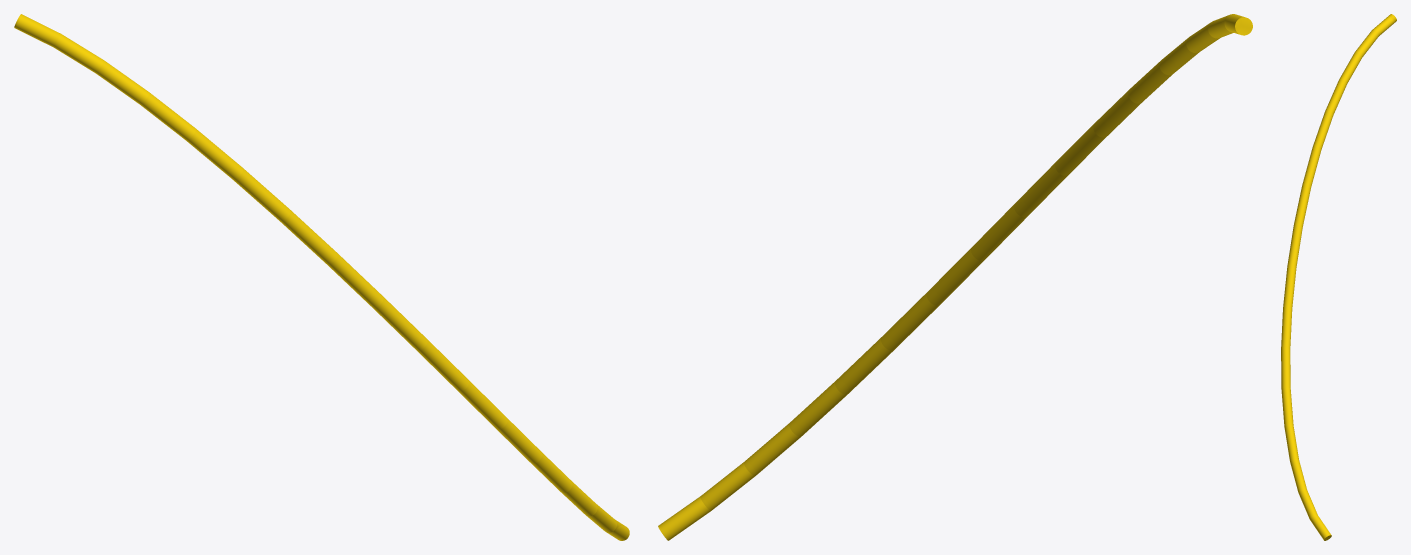
File: Event_421115418_track_85.fbx
3 views of the same model, side by side, from view 1: azimuth 30°, elevation 25°; view 2: azimuth 150°, elevation 25°; view 3: azimuth 270°, elevation 25° (orthographic). The views are drawn at different scales.
Parts seen in each view (by area): view 1: Model; view 2: Model; view 3: Model.
Boxes of the visible parts, left/top/right/bottom form: Model: left=14, top=14, right=629, bottom=540; Model: left=658, top=14, right=1252, bottom=540; Model: left=1281, top=14, right=1396, bottom=540.
Bounding box in the file's own units: 1.65 × 1.75 × 0.4984.
